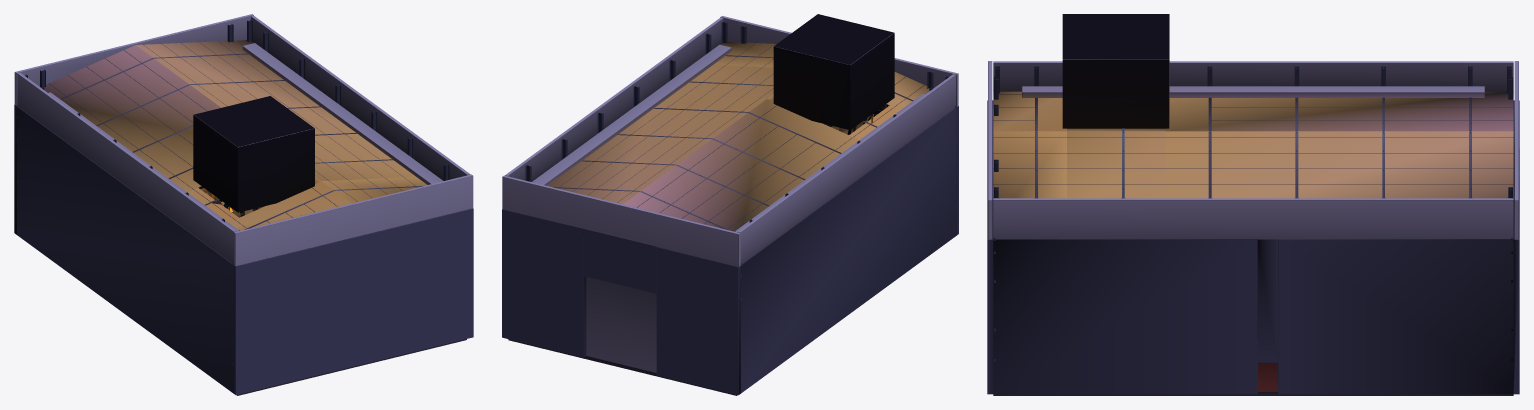
The model's file is factory_v2.glb.
3 views of the same model, side by side, from view 1: azimuth 30°, elevation 25°; view 2: azimuth 150°, elevation 25°; view 3: azimuth 270°, elevation 25° (orthographic). The views are drawn at different scales.
Parts seen in each view (by area): view 1: FactoryV2; view 2: FactoryV2; view 3: FactoryV2.
Part boxes in pixels (bbox=[...]): FactoryV2: bbox=[14, 14, 473, 395]; FactoryV2: bbox=[502, 14, 958, 395]; FactoryV2: bbox=[987, 14, 1519, 395].
Bounding box in the file's own units: 22.82 × 20.2 × 36.8.
